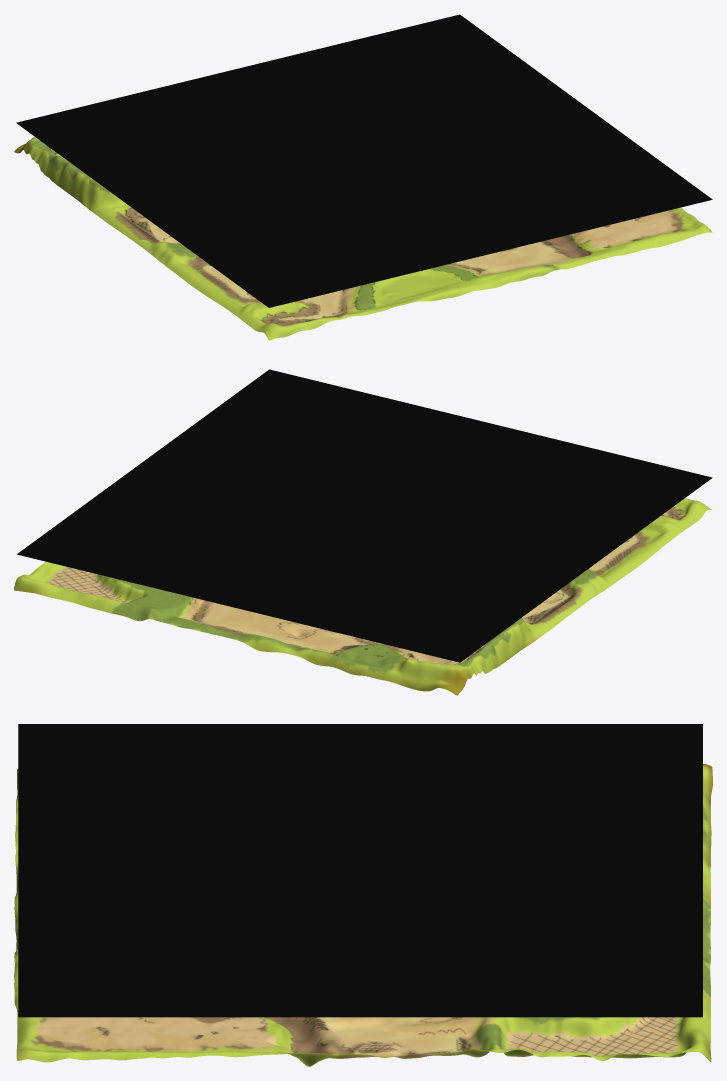
File: hugeMapCut.glb
The picture shows the model from 3 angles, top to bottom: view 1: azimuth 30°, elevation 25°; view 2: azimuth 150°, elevation 25°; view 3: azimuth 270°, elevation 25°; orthographic projection. The views are drawn at different scales.
Visible parts, largest first — view 1: Plane.001, Plane.008, Plane.003, Plane.005, Plane.002, Plane.006, Plane.004, Plane.007, Plane.036, Plane.022, Plane.043, Plane.015 (+2 smaller); view 2: Plane.001, Plane, Plane.046, Plane.044, Plane.049, Plane.045, Plane.047, Plane.048, Plane.029, Plane.015, Plane.043, Plane.008 (+2 smaller); view 3: Plane.001, Plane.002, Plane.044, Plane.009, Plane.037, Plane.023, Plane.030, Plane.016, Plane.045, Plane.017.
Part boxes in pixels (box(x1,y1,x2,y2)): Plane.001: box(16, 14, 712, 307); Plane.008: box(233, 300, 332, 340); Plane.003: box(550, 223, 648, 262); Plane.005: box(430, 254, 522, 295); Plane.002: box(618, 207, 712, 248); Plane.006: box(366, 269, 460, 306); Plane.004: box(489, 239, 587, 280); Plane.007: box(300, 284, 395, 320); Plane.036: box(88, 184, 159, 234); Plane.022: box(160, 247, 229, 289); Plane.043: box(52, 158, 99, 208); Plane.015: box(197, 280, 260, 313); Plane.001: box(17, 369, 712, 662); Plane: box(395, 644, 496, 695); Plane.046: box(142, 592, 243, 632); Plane.044: box(14, 561, 107, 603); Plane.049: box(331, 642, 432, 682); Plane.045: box(77, 577, 169, 621); Plane.047: box(205, 611, 305, 651); Plane.048: box(268, 626, 368, 666); Plane.029: box(533, 576, 604, 615); Plane.015: box(608, 524, 676, 564); Plane.043: box(471, 618, 532, 667); Plane.008: box(649, 498, 711, 535); Plane.001: box(18, 724, 702, 1017); Plane.002: box(16, 1017, 115, 1062); Plane.044: box(604, 1014, 711, 1061); Plane.009: box(116, 1017, 213, 1060); Plane.037: box(507, 1017, 604, 1060); Plane.023: box(312, 1020, 411, 1065); Plane.030: box(411, 1017, 508, 1058); Plane.016: box(213, 1017, 312, 1066); Plane.045: box(634, 970, 710, 1023); Plane.017: box(212, 1017, 310, 1033).
Bounding box in the file's own units: 205 × 19.45 × 206.
2 materials, 1 textured.
